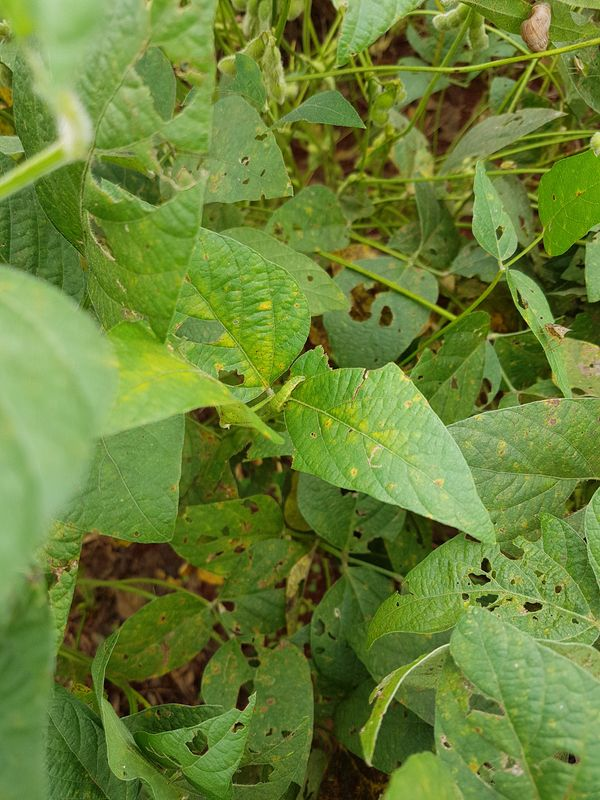Anticarsia_gemmatalis: (258, 369, 310, 423)
Edessa_meditabunda: (563, 49, 593, 83)
Euschistus_heros_adulto: (532, 316, 577, 357)
Gastropoda: (512, 1, 562, 61)
